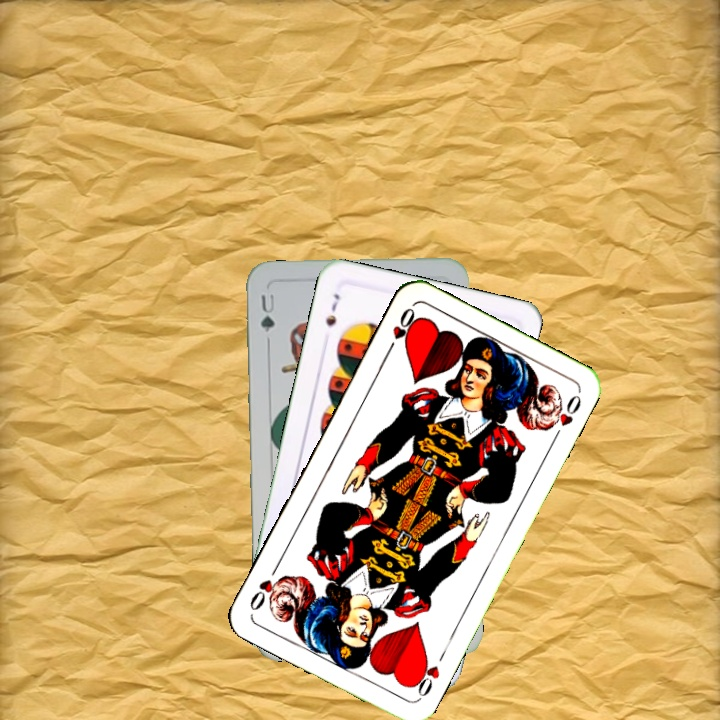GU: (257, 290, 278, 345)
HO: (382, 303, 421, 357), (407, 653, 443, 702)
S7: (321, 289, 342, 329)
